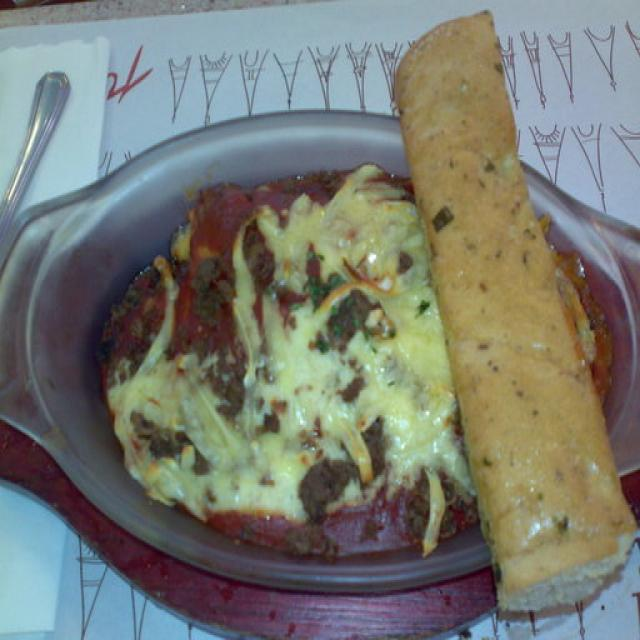Lasagna: (98, 153, 407, 595)
